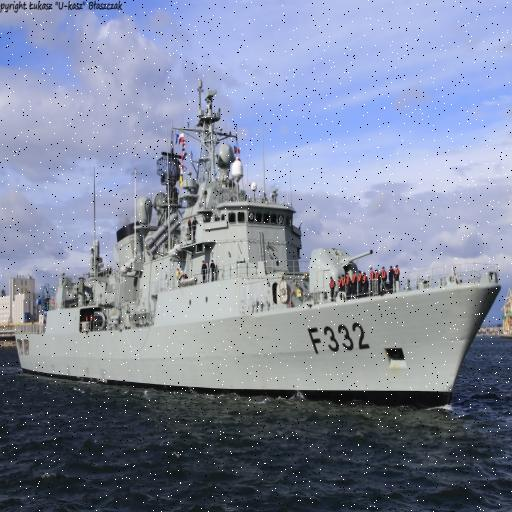Fragata: (7, 78, 506, 416)
